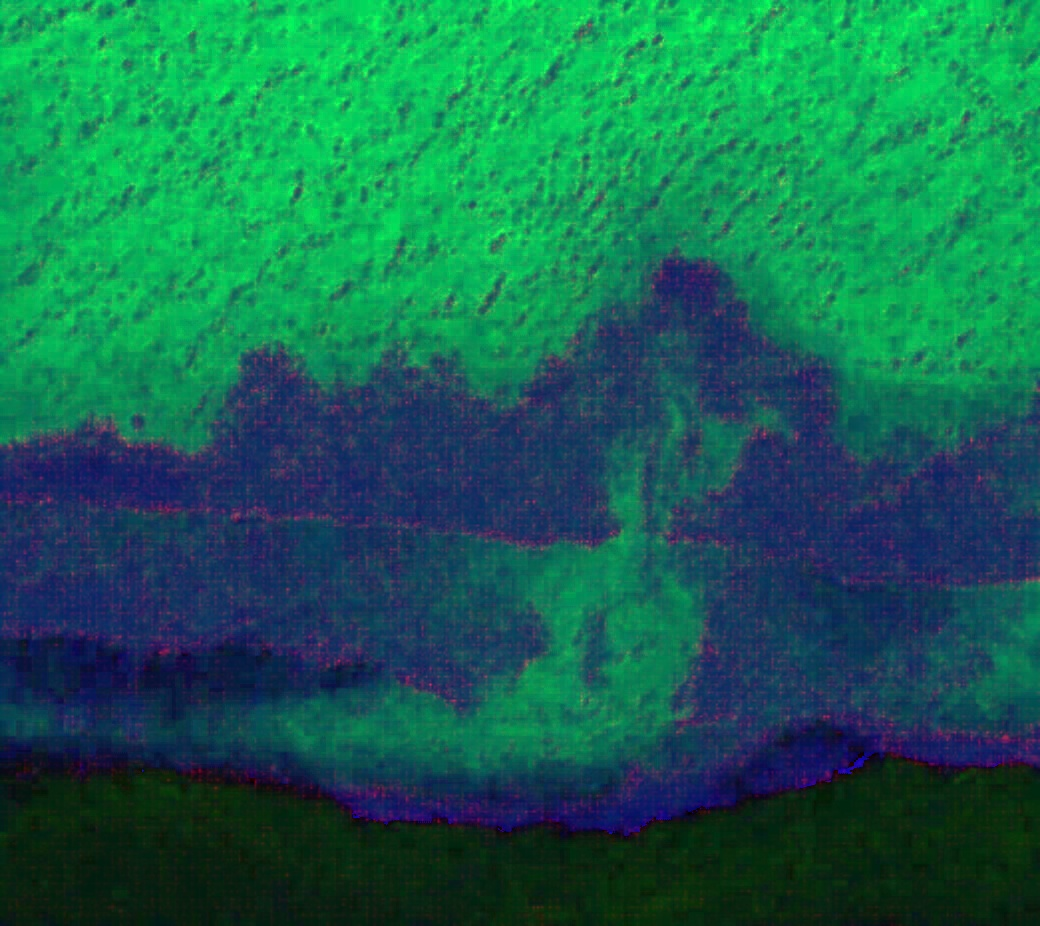rip_current: (488, 266, 797, 737)
